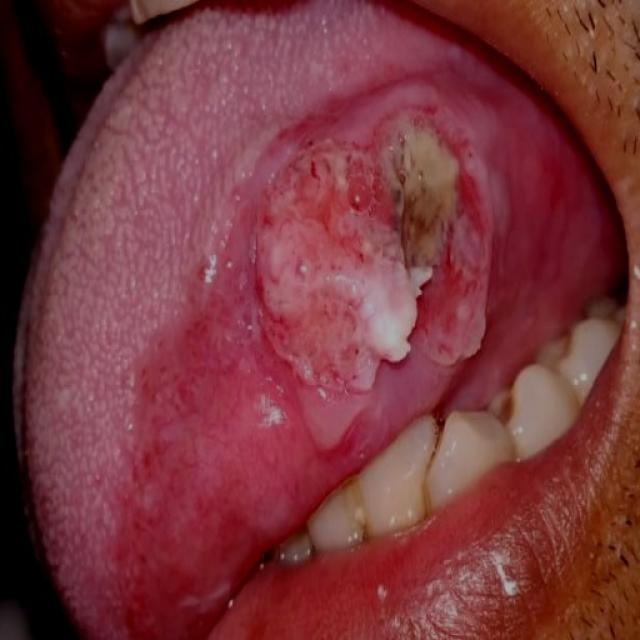cancer-detection: (190, 61, 546, 486)
processing_area: (32, 0, 619, 639)
